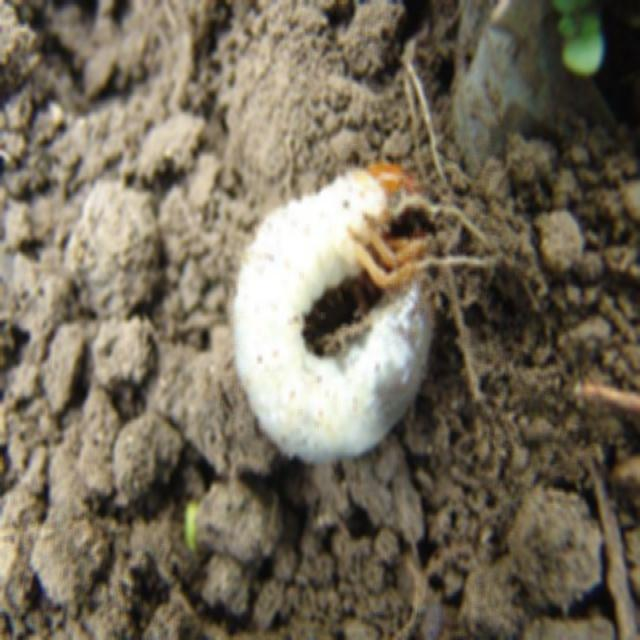grub: (229, 165, 449, 465)
